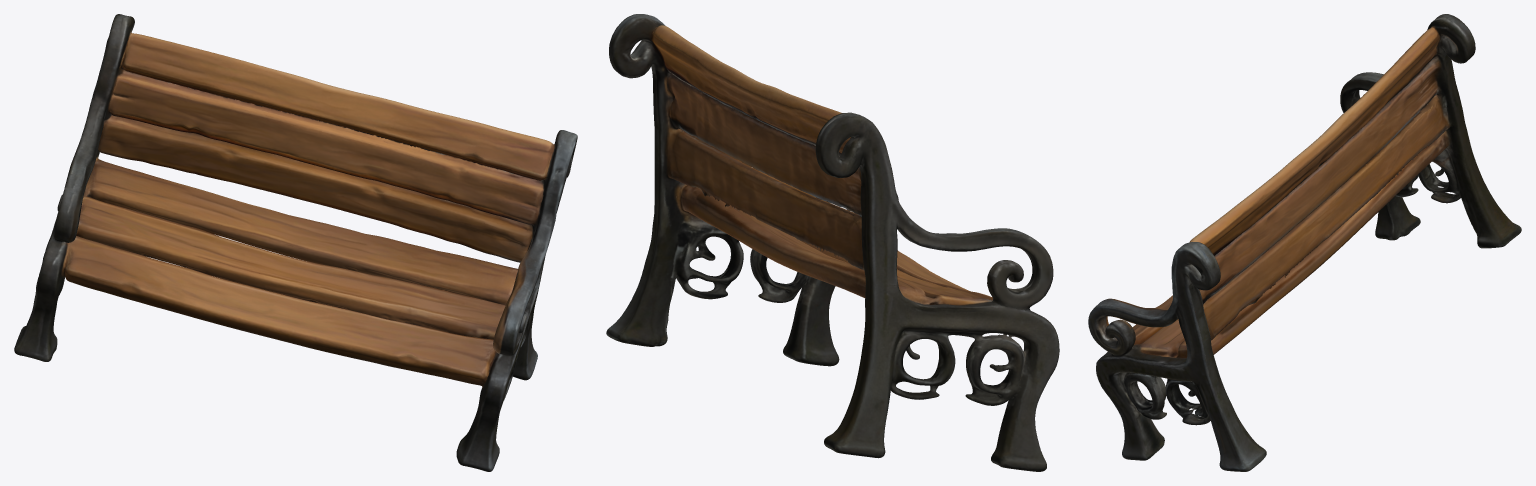
Rendered from bench.glb.
3 views of the same model, side by side, from view 1: azimuth 30°, elevation 25°; view 2: azimuth 150°, elevation 25°; view 3: azimuth 270°, elevation 25° (orthographic). The views are drawn at different scales.
Size of the model in its own units: 0.8856 by 0.6913 by 0.7702.
1 material, 1 textured.
